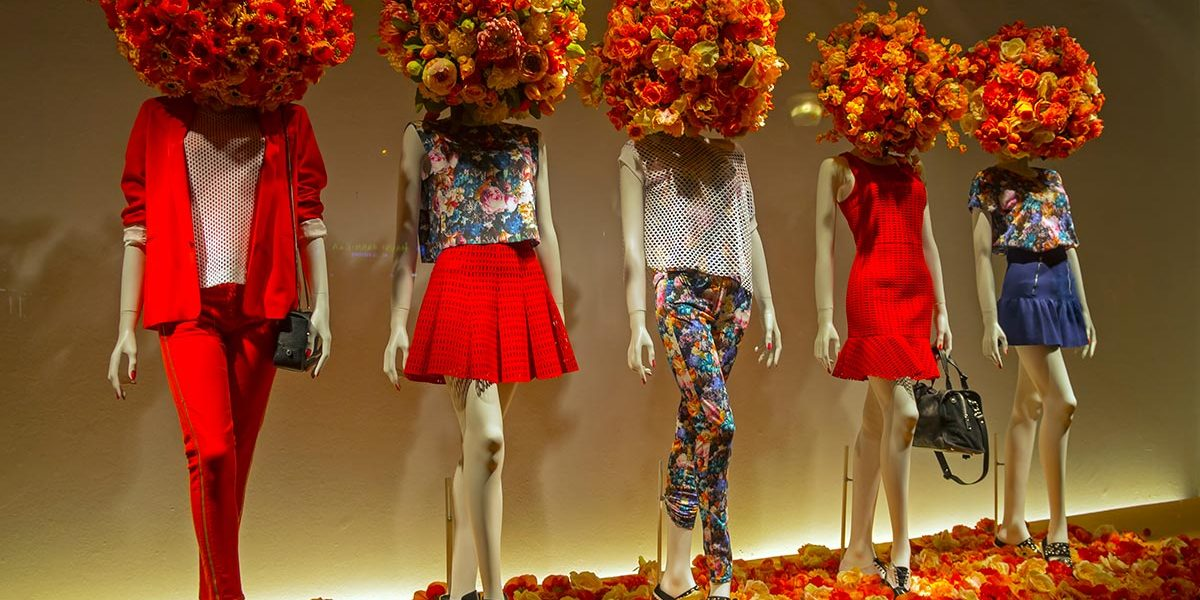person-like: (101, 5, 339, 600), (373, 10, 586, 600), (613, 3, 789, 600), (804, 8, 961, 599), (964, 21, 1106, 570)
